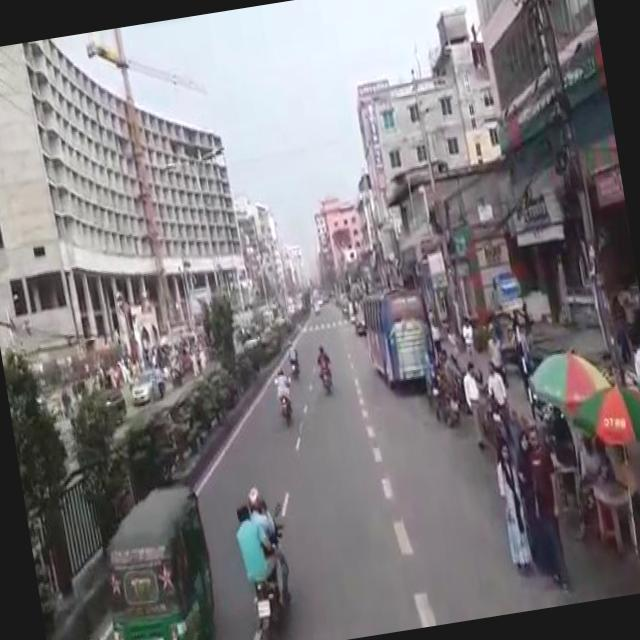bus: (360, 280, 441, 383)
car: (90, 382, 128, 422), (130, 368, 164, 403)
motorcycle: (89, 476, 229, 640), (239, 497, 305, 640), (432, 383, 464, 429), (275, 373, 300, 425), (318, 359, 336, 396), (289, 350, 302, 374)
